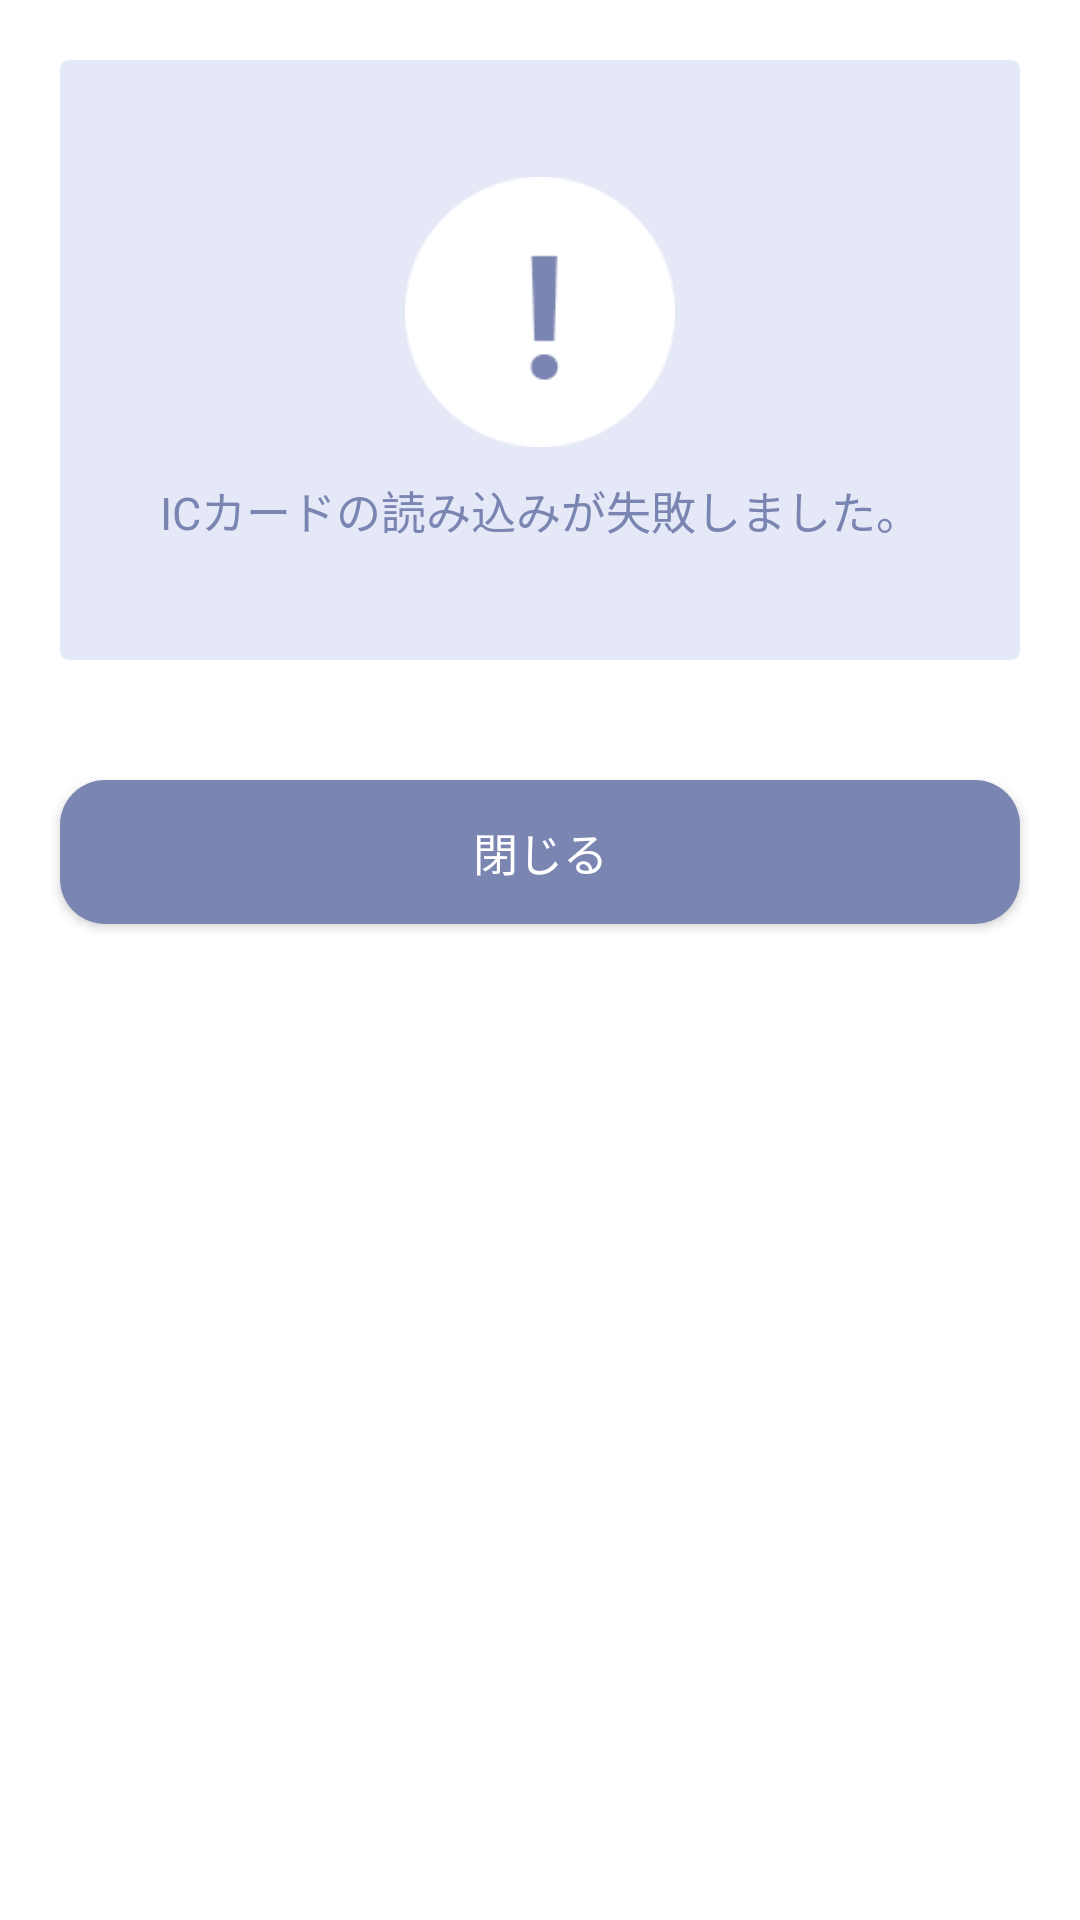

Screen size 1080*1920. Icon name, then its center in pixels as point (x, y):
error: point (540, 312)
